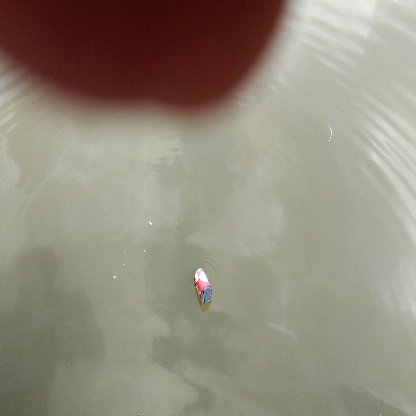bottle: (192, 264, 219, 306)
